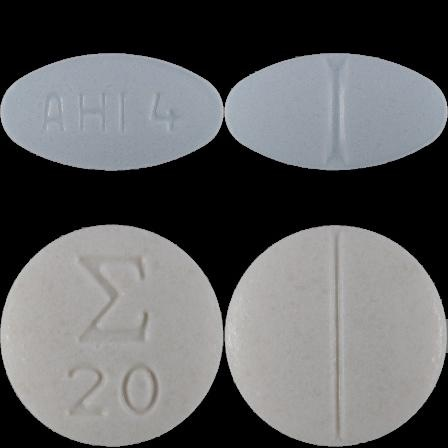51655-120: (0, 0, 224, 224)
